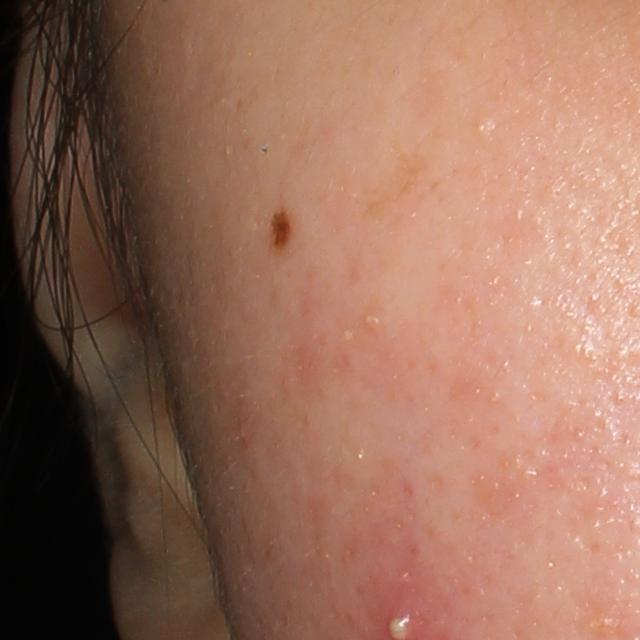comedo: (464, 108, 500, 143), (360, 314, 381, 331)
nevus: (267, 211, 290, 248)
